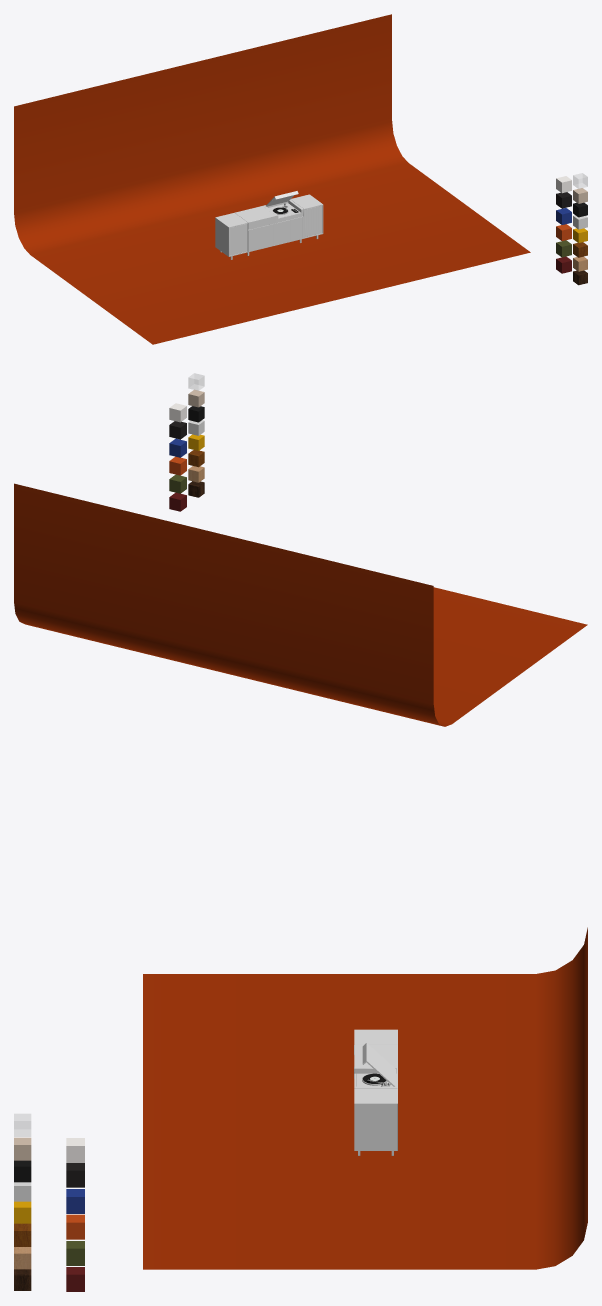
Rendered from WEBBTO3D_FINAL_TEST.glb.
The picture shows the model from 3 angles, top to bottom: view 1: azimuth 30°, elevation 25°; view 2: azimuth 150°, elevation 25°; view 3: azimuth 270°, elevation 25°; orthographic projection. The views are drawn at different scales.
Visible parts, largest first — view 1: Scene_Orange, Console_Large, Cabinet_Smooth, Speaker, NS_Textured, Cabinet_Textured; view 2: Scene_Orange; view 3: Scene_Orange, Console_Large, Recordplayer_Cover.
Boxes of the visible parts, <box> form: Scene_Orange: <box>14,14,530,344</box>; Console_Large: <box>215,194,323,256</box>; Cabinet_Smooth: <box>248,216,303,252</box>; Speaker: <box>229,205,321,255</box>; NS_Textured: <box>230,205,322,255</box>; Cabinet_Textured: <box>249,216,302,251</box>; Scene_Orange: <box>14,483,587,726</box>; Scene_Orange: <box>143,927,587,1269</box>; Console_Large: <box>354,1029,397,1150</box>; Recordplayer_Cover: <box>362,1043,396,1086</box>.
Bounding box in the file's own units: 8.37 × 2.88 × 6.57.
33 materials, 8 textured.
